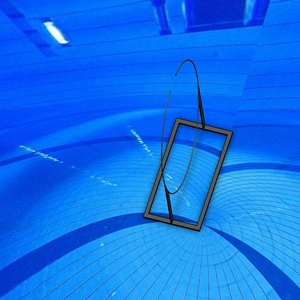circle: (142, 58, 233, 233)
